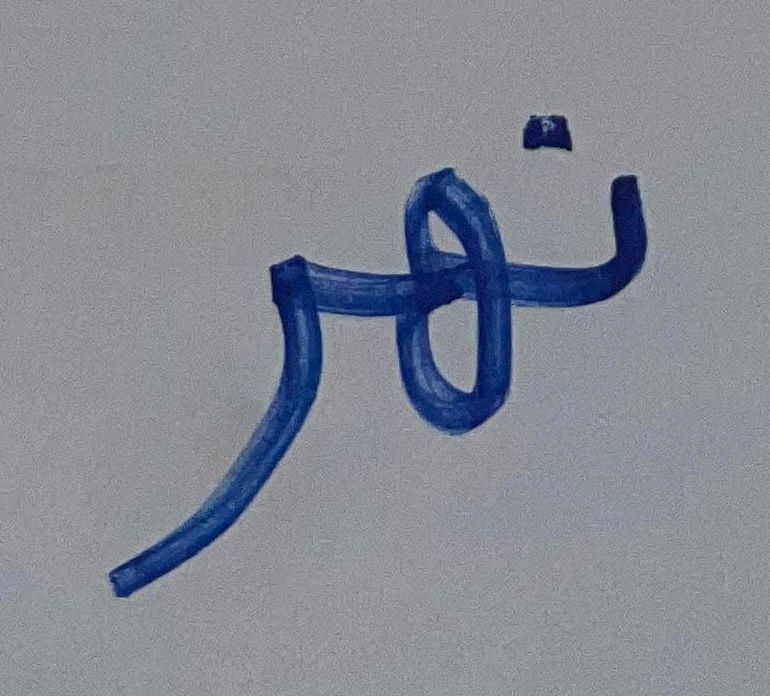heh: (342, 127, 516, 444)
noon: (519, 87, 670, 353)
reh: (79, 206, 333, 623)
